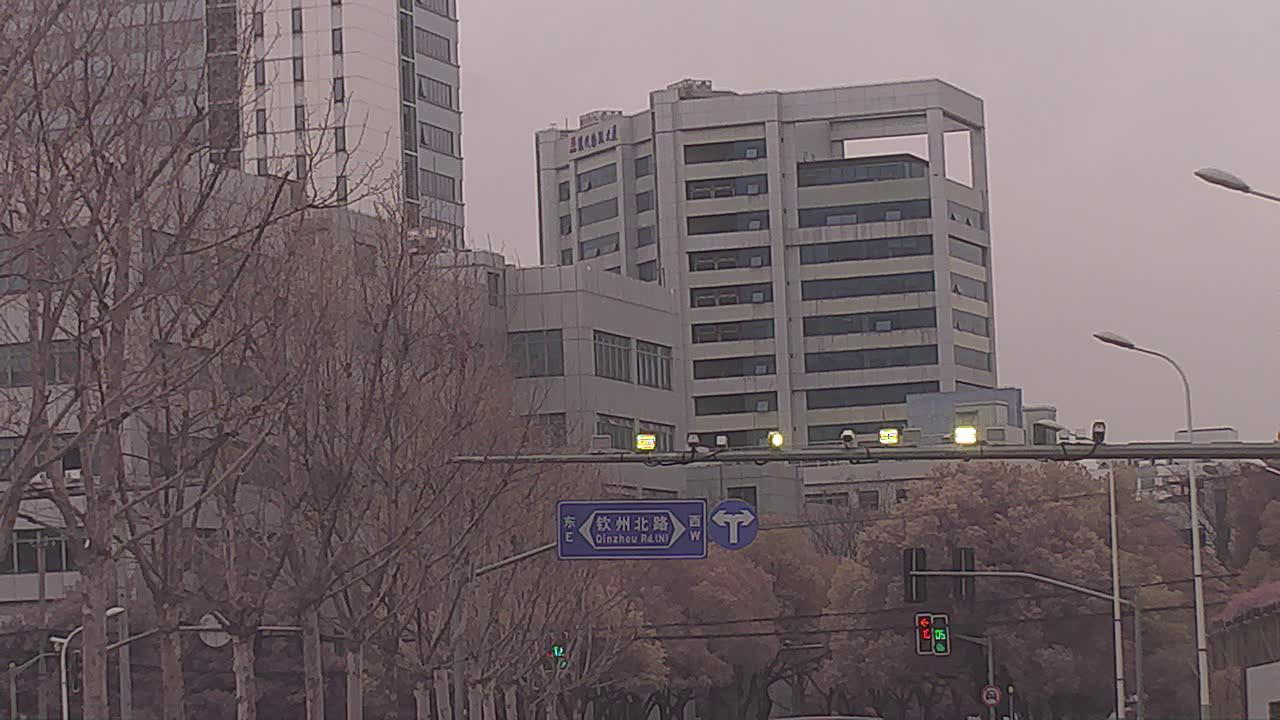traffic_light: (917, 613, 933, 656), (933, 609, 947, 654)
